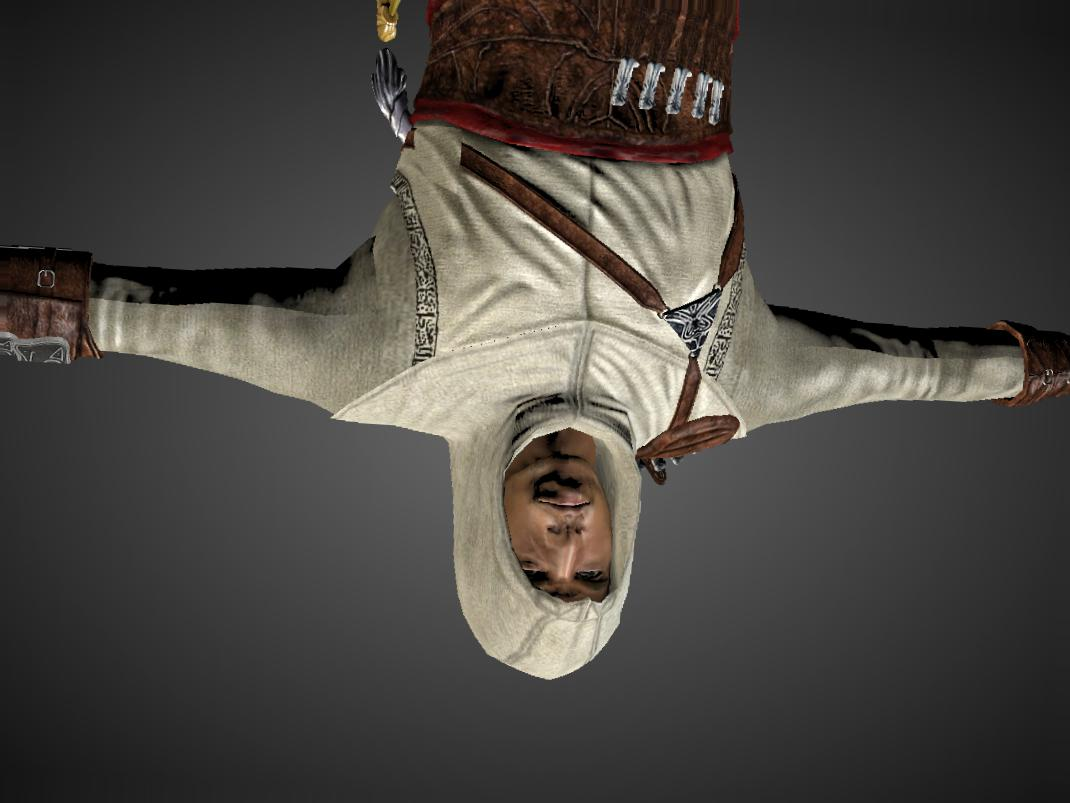clip: (411, 123, 470, 169)
